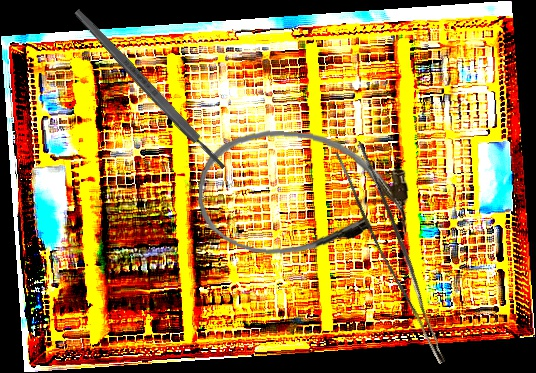Cannula: (194, 125, 413, 264)
Scalpel Handle: (72, 6, 228, 173)
Tissue Forceps: (328, 140, 471, 365)
